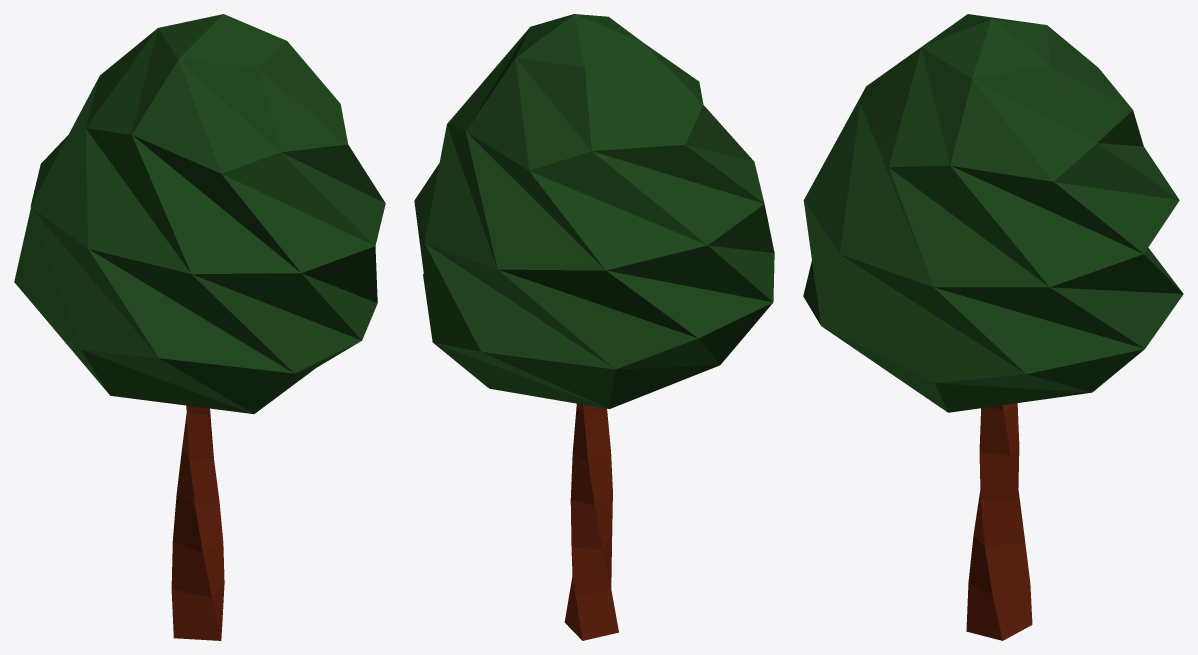
Rendered from Tree.FBX.
The picture shows the model from 3 angles, left to right: view 1: azimuth 30°, elevation 25°; view 2: azimuth 150°, elevation 25°; view 3: azimuth 270°, elevation 25°; orthographic projection. The views are drawn at different scales.
Parts seen in each view (by area): view 1: GeoSphere003, Box003; view 2: GeoSphere003, Box003; view 3: GeoSphere003, Box003.
Boxes of the visible parts, box(x1,y1,x2,y2) form: GeoSphere003: box(14, 14, 385, 413); Box003: box(171, 405, 224, 640); GeoSphere003: box(414, 14, 774, 408); Box003: box(564, 403, 618, 640); GeoSphere003: box(803, 14, 1183, 412); Box003: box(966, 403, 1032, 640).
Bounding box in the file's own units: 165 × 313 × 174.
